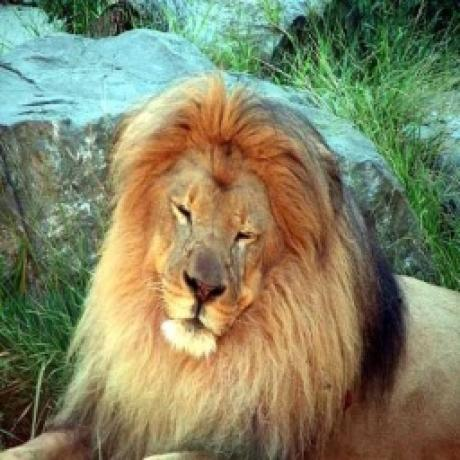Lion: (0, 75, 460, 460)
